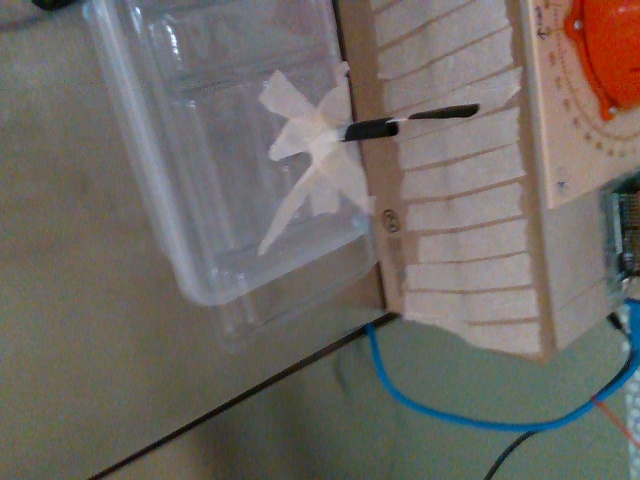test_strip: (386, 102, 478, 122)
